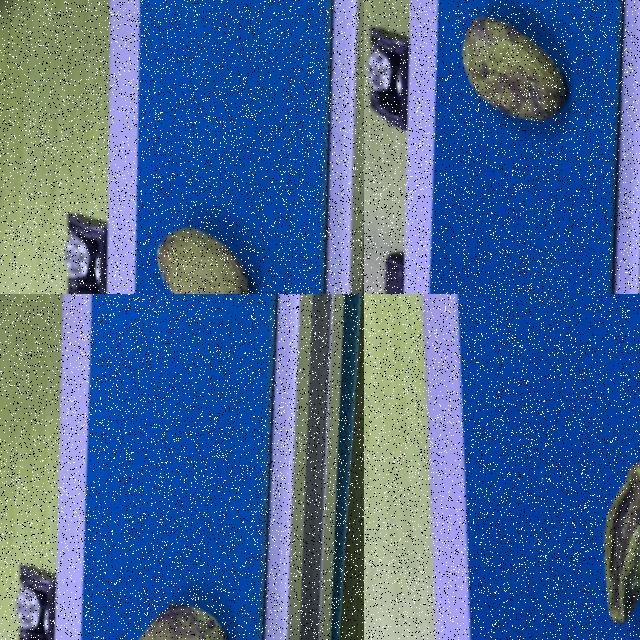Fine_cocoabeans: (415, 0, 598, 159), (103, 145, 289, 293), (91, 520, 270, 639)
Flat_cocoabeans: (534, 403, 639, 639)
